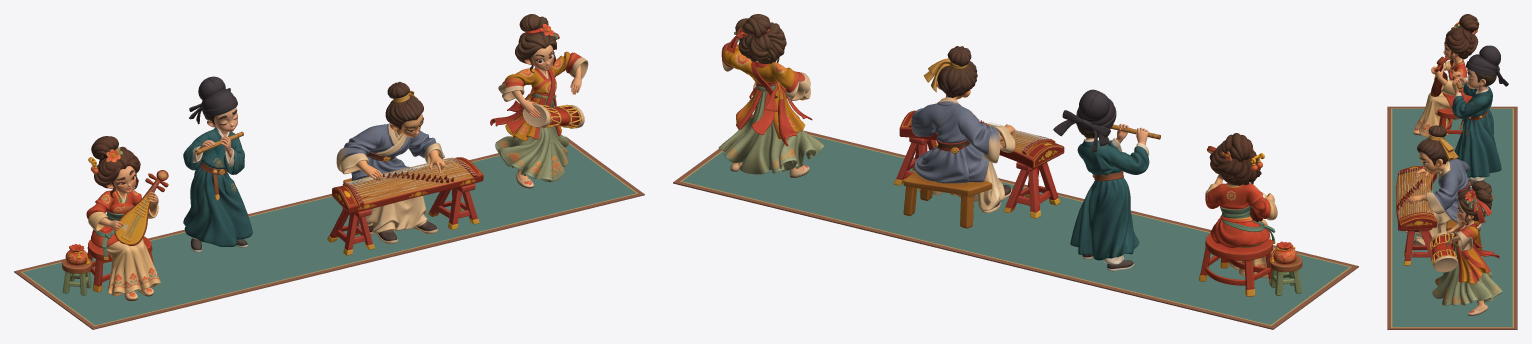
The model's file is ensemble.glb.
The picture shows the model from 3 angles, left to right: view 1: azimuth 30°, elevation 25°; view 2: azimuth 150°, elevation 25°; view 3: azimuth 270°, elevation 25°; orthographic projection. The views are drawn at different scales.
Visible parts, largest first — view 1: ensemble-woven-mat, ensemble-zheng-mesh, ensemble-pipa-mesh, ensemble-waist-drum-mesh, ensemble-flute-mesh; view 2: ensemble-woven-mat, ensemble-zheng-mesh, ensemble-waist-drum-mesh, ensemble-pipa-mesh, ensemble-flute-mesh; view 3: ensemble-woven-mat, ensemble-zheng-mesh, ensemble-waist-drum-mesh, ensemble-flute-mesh, ensemble-pipa-mesh.
Part boxes in pixels (x1=…): ensemble-woven-mat: x1=14, y1=136, x2=644, y2=329; ensemble-zheng-mesh: x1=327, y1=81, x2=483, y2=255; ensemble-pipa-mesh: x1=62, y1=136, x2=168, y2=300; ensemble-waist-drum-mesh: x1=490, y1=14, x2=588, y2=188; ensemble-flute-mesh: x1=183, y1=76, x2=252, y2=252; ensemble-woven-mat: x1=673, y1=130, x2=1358, y2=329; ensemble-zheng-mesh: x1=893, y1=46, x2=1064, y2=228; ensemble-waist-drum-mesh: x1=718, y1=14, x2=823, y2=177; ensemble-pipa-mesh: x1=1199, y1=133, x2=1302, y2=296; ensemble-flute-mesh: x1=1053, y1=89, x2=1160, y2=271; ensemble-woven-mat: x1=1387, y1=106, x2=1517, y2=329; ensemble-zheng-mesh: x1=1396, y1=125, x2=1481, y2=265; ensemble-waist-drum-mesh: x1=1430, y1=180, x2=1502, y2=315; ensemble-flute-mesh: x1=1451, y1=45, x2=1508, y2=187; ensemble-pipa-mesh: x1=1413, y1=14, x2=1479, y2=139.
Bounding box in the file's own units: 7.73 × 2.17 × 1.91.
7 materials, 4 textured.
